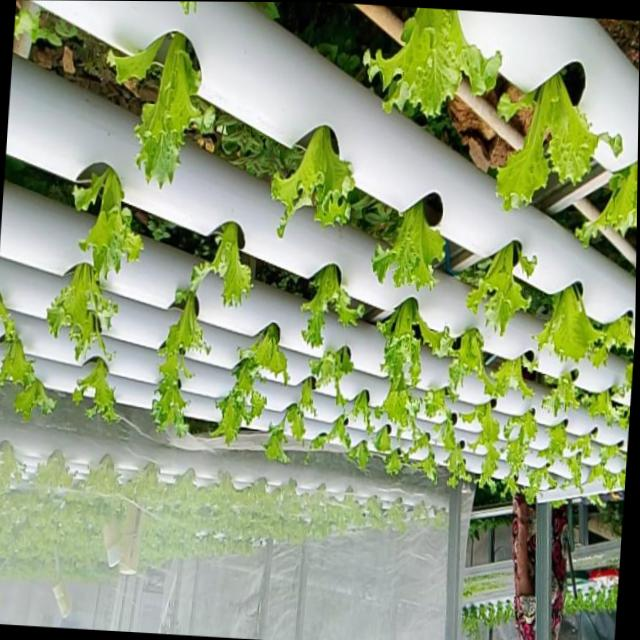Baby: (501, 77, 627, 214), (369, 10, 507, 120), (140, 34, 218, 190), (275, 127, 359, 239), (155, 285, 213, 437), (78, 168, 148, 281), (376, 194, 449, 291), (51, 265, 121, 362), (470, 242, 535, 337), (537, 286, 606, 368), (304, 265, 368, 349), (193, 223, 256, 308), (214, 360, 269, 446), (443, 328, 508, 399), (312, 347, 367, 407), (503, 411, 541, 494), (242, 324, 293, 384), (76, 359, 122, 424), (377, 373, 424, 436), (0, 320, 40, 393), (527, 468, 560, 504), (543, 424, 570, 466), (411, 429, 434, 461), (427, 389, 450, 419), (569, 454, 586, 492)
